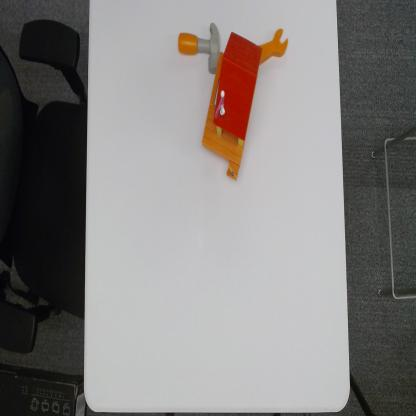Hammer: (178, 21, 221, 76)
House: (200, 28, 263, 184)
Screwdriver: (259, 26, 289, 64)
